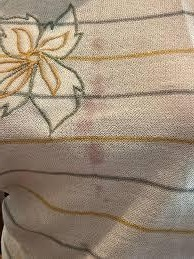wine: (72, 103, 106, 136), (83, 63, 111, 93), (81, 142, 106, 167), (86, 180, 109, 203), (84, 35, 105, 58)
